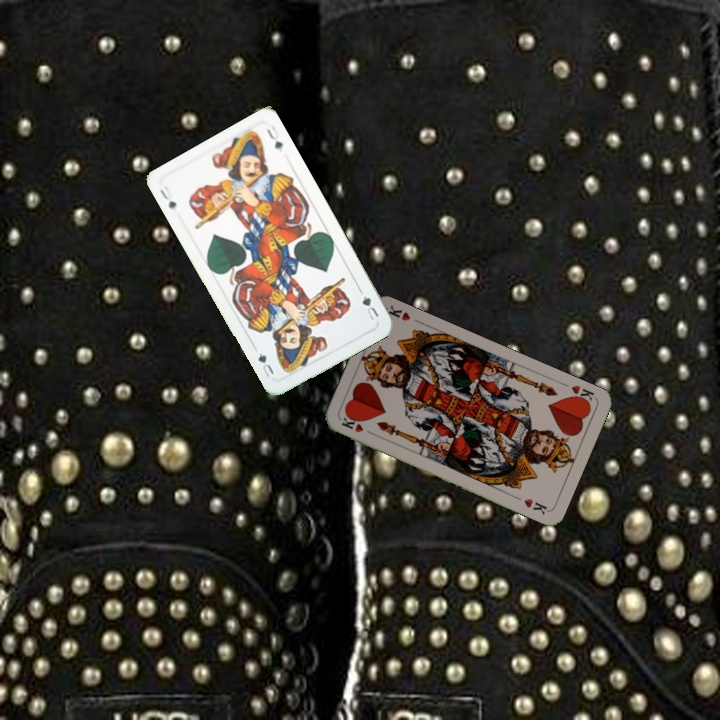GU: (356, 286, 382, 323), (156, 182, 179, 212)
HK: (338, 413, 376, 438), (567, 381, 597, 407)
